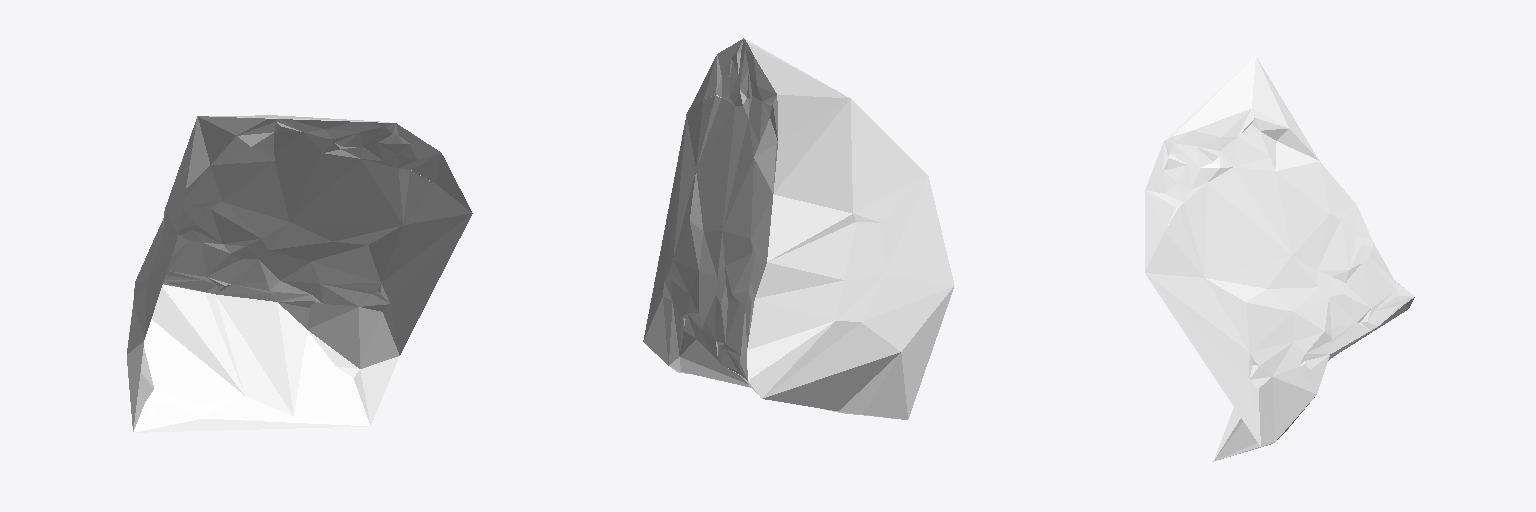
The model's file is mesona.obj.
3 renders of one model, left to right at view 1: azimuth 30°, elevation 25°; view 2: azimuth 150°, elevation 25°; view 3: azimuth 270°, elevation 25°, orthographic.
Bounding box in the file's own units: 1.78 × 1.89 × 1.4.